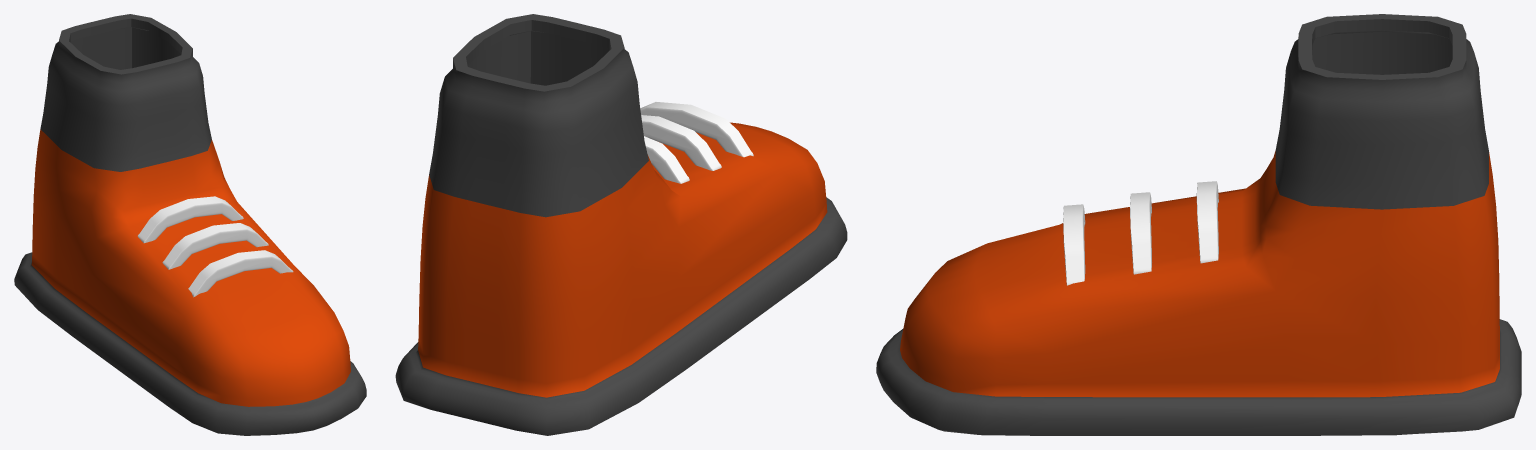
File: Shoe_3.fbx
3 views of the same model, side by side, from view 1: azimuth 30°, elevation 25°; view 2: azimuth 150°, elevation 25°; view 3: azimuth 270°, elevation 25° (orthographic). The views are drawn at different scales.
Visible parts, largest first — view 1: Shoe_3; view 2: Shoe_3; view 3: Shoe_3.
Part boxes in pixels (box(x1,y1,x2,y2)): Shoe_3: box(14, 14, 366, 435); Shoe_3: box(395, 14, 847, 435); Shoe_3: box(876, 14, 1521, 435).
Bounding box in the file's own units: 0.1194 × 0.1715 × 0.294.
